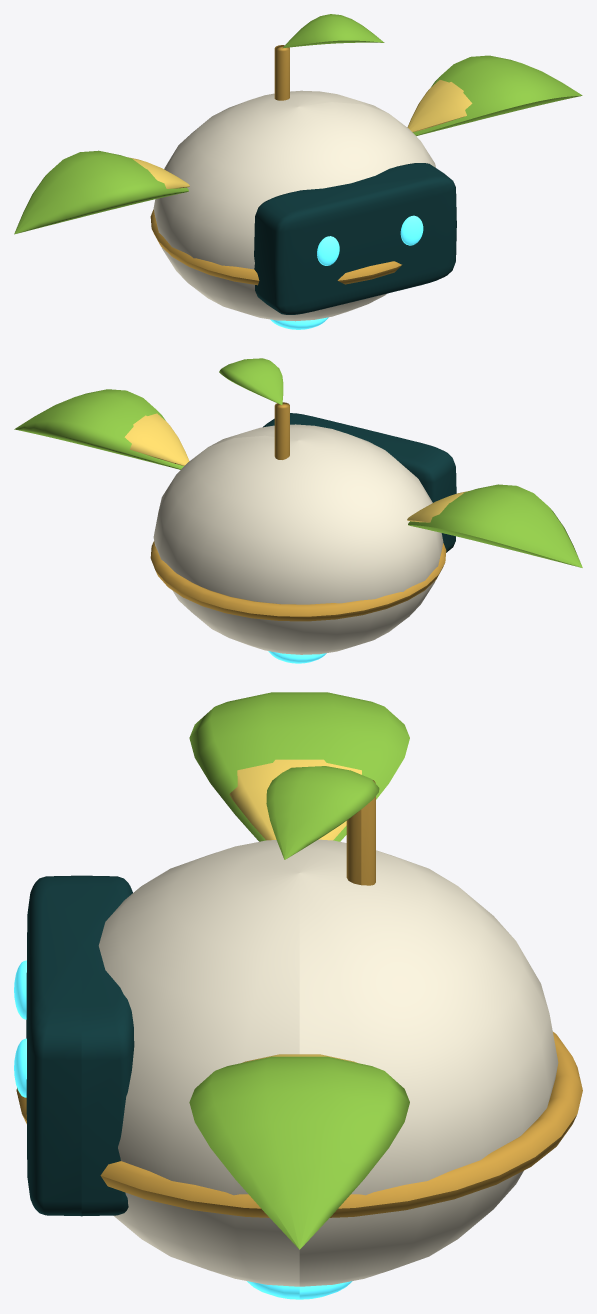
The model's file is drone.glb.
The picture shows the model from 3 angles, top to bottom: view 1: azimuth 30°, elevation 25°; view 2: azimuth 150°, elevation 25°; view 3: azimuth 270°, elevation 25°; orthographic projection. The views are drawn at different scales.
Visible parts, largest first — view 1: drone, wing-left, wing-right, eye-left, eye-right; view 2: drone, wing-left, wing-right; view 3: drone, wing-right, wing-left.
Boxes of the visible parts, x1=… form: drone: x1=150, y1=14, x2=456, y2=329; wing-left: x1=14, y1=150, x2=189, y2=234; wing-right: x1=407, y1=55, x2=582, y2=136; eye-left: x1=317, y1=236, x2=339, y2=265; eye-right: x1=400, y1=215, x2=423, y2=245; drone: x1=150, y1=358, x2=456, y2=663; wing-left: x1=407, y1=484, x2=582, y2=567; wing-right: x1=14, y1=389, x2=189, y2=469; drone: x1=16, y1=766, x2=582, y2=1299; wing-right: x1=189, y1=1054, x2=409, y2=1249; wing-left: x1=189, y1=692, x2=409, y2=841.
Size of the model in its own units: 1.02 by 0.495 by 0.462.
